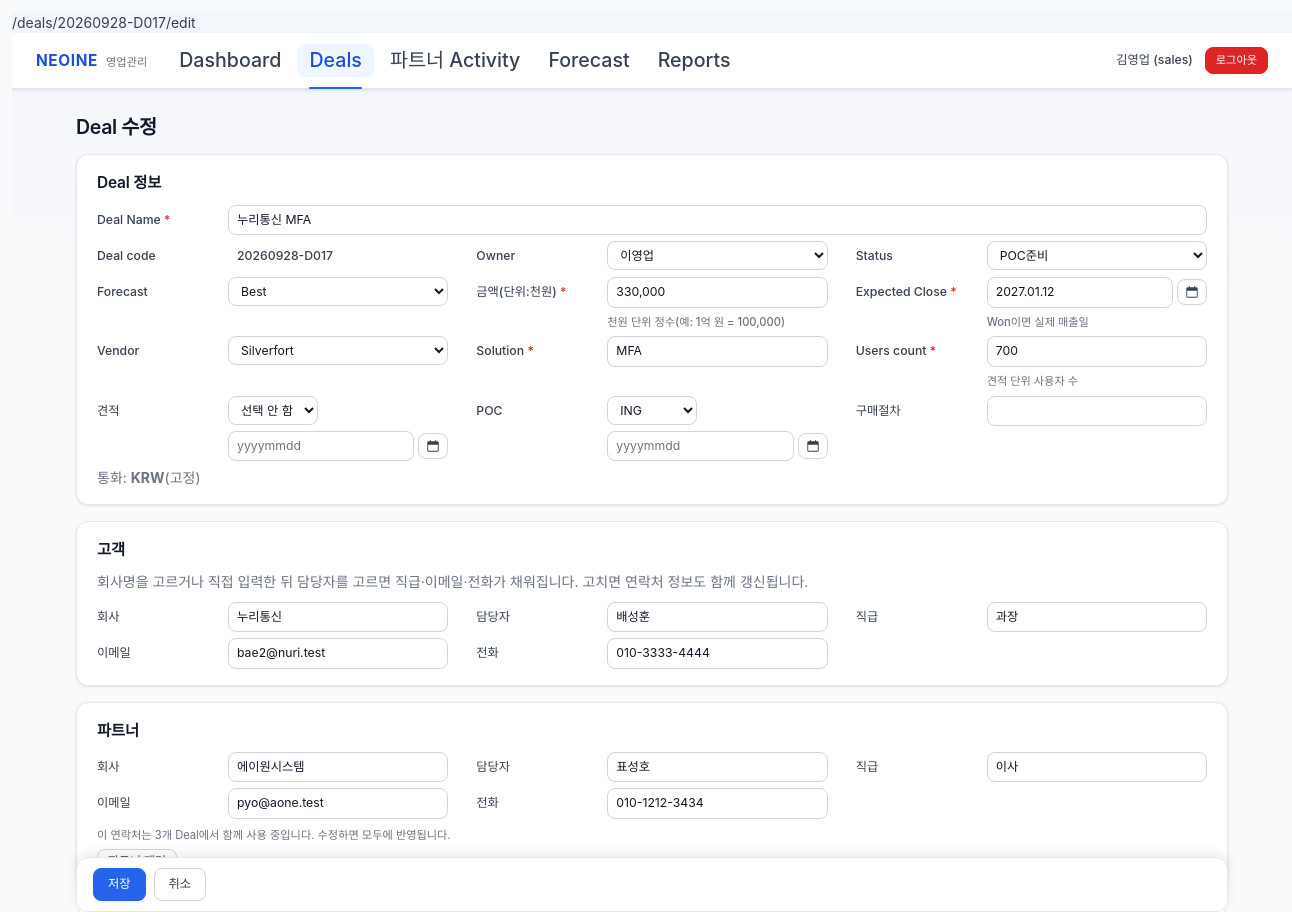
it: Deal 수정 (T-FORM-06) › shows the server message and stays on the form when saving fails
Expected: the heading "Deal 수정" is shown, [76,115,157,139]
Expected: the field labelled "Deal Name" is shown, [228,204,1207,235]
Replace the text in the field named "고객 이메일" with "bae1@nuri.test". click: (338, 654)
box: [228,638,448,669]
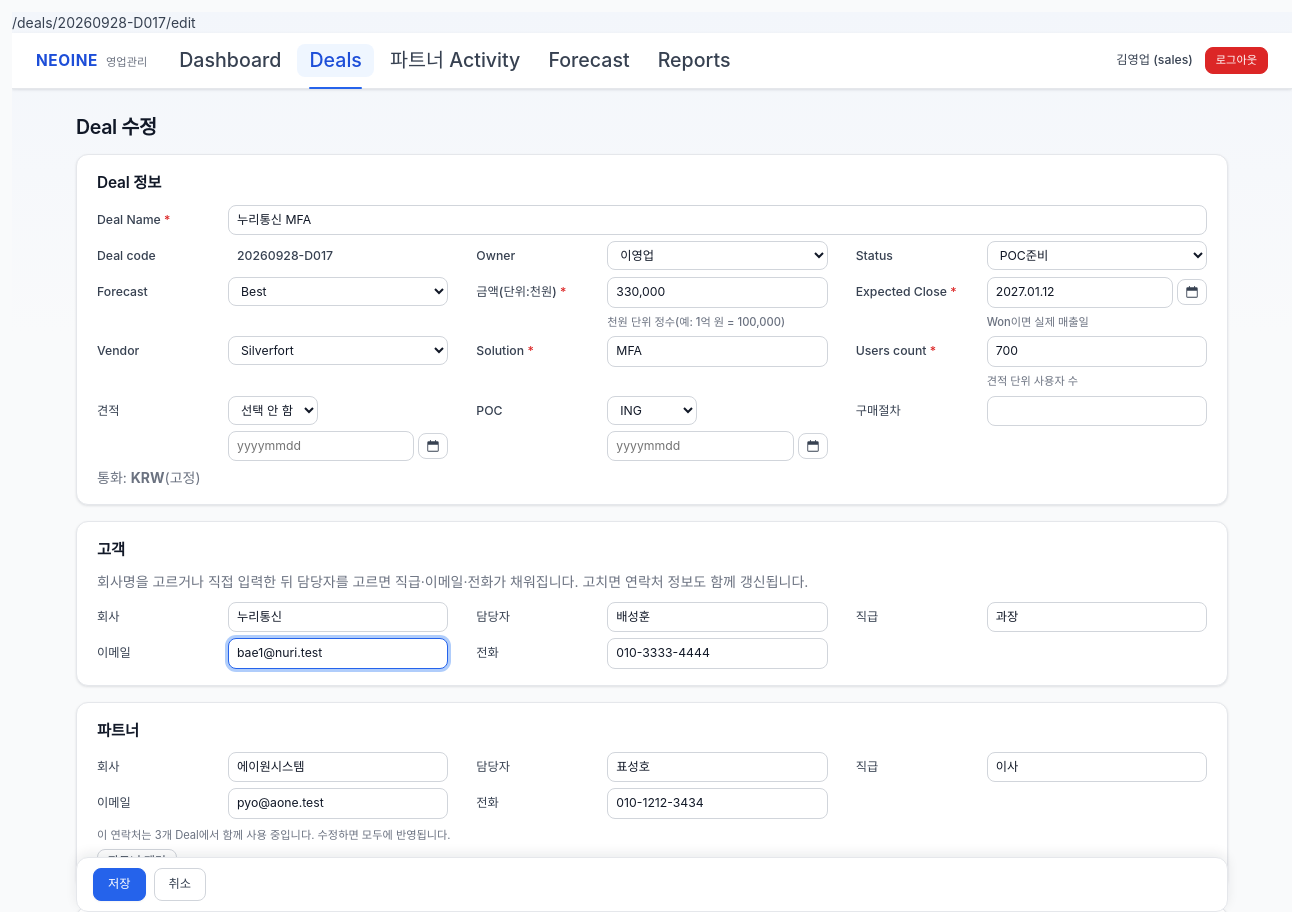
Click the button "저장". click: (119, 885)
box: [93,869,146,901]
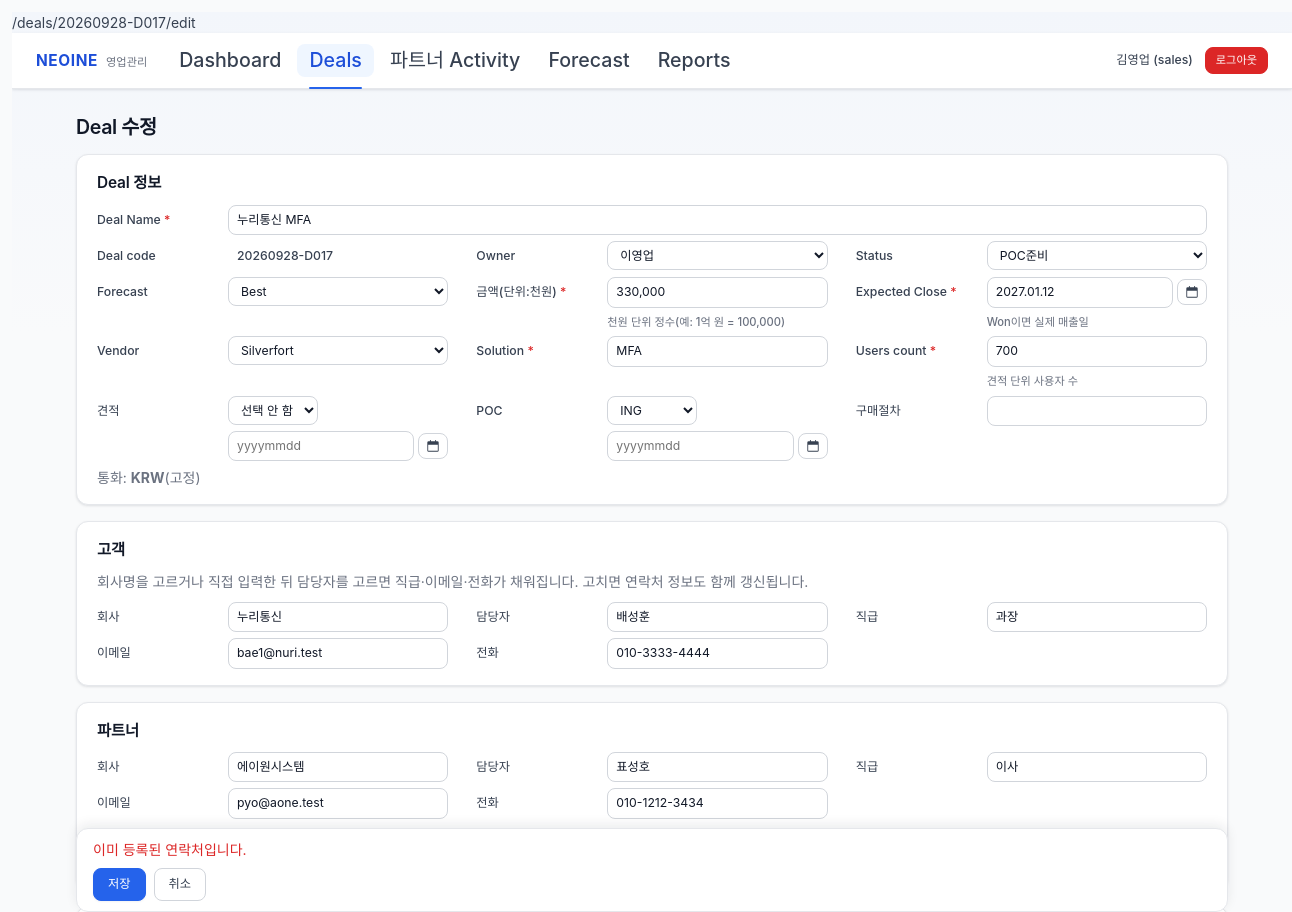
Expected: the text with test id "location" shows "/edit", [12,14,196,31]
Now the text "이미 등록된 연락처입니다." is shown, box [93,842,247,859]
